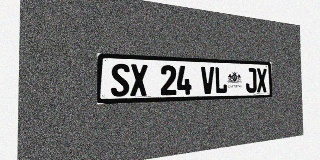2: (161, 65, 176, 95)
4: (177, 65, 191, 95)
J: (245, 68, 257, 93)
L: (214, 67, 227, 94)
S: (111, 63, 129, 97)
V: (201, 66, 214, 94)
X: (130, 64, 148, 96), (256, 68, 267, 92)
